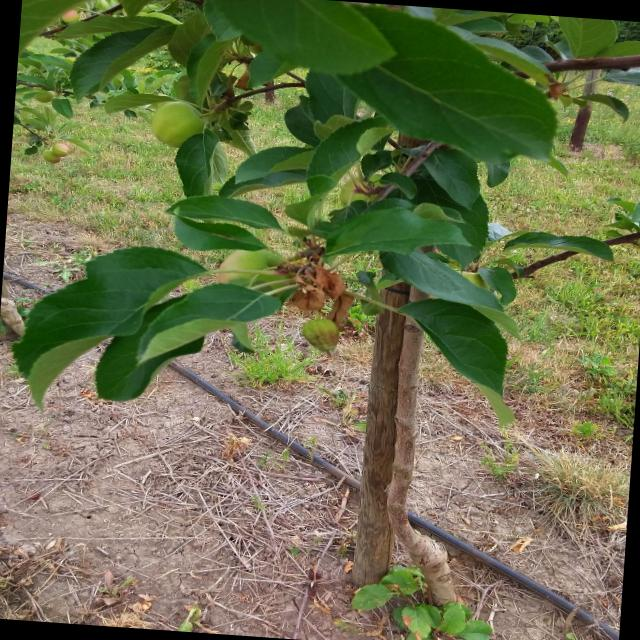-FireBlight-: (286, 256, 350, 321)
